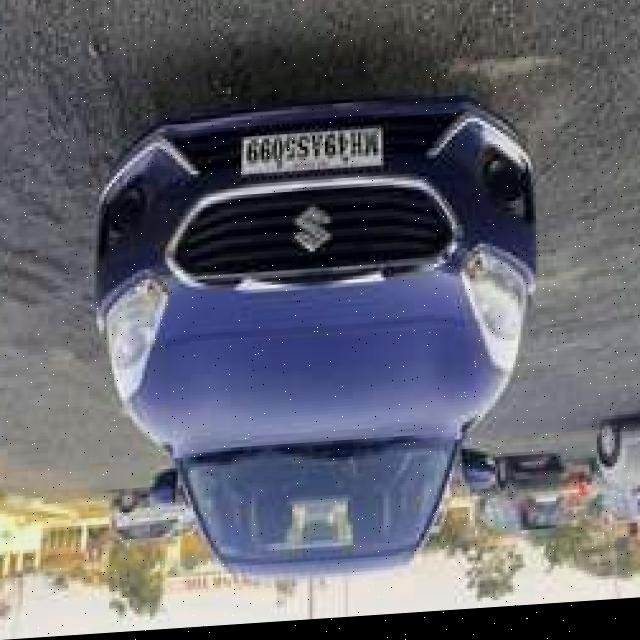plate: (239, 128, 385, 183)
